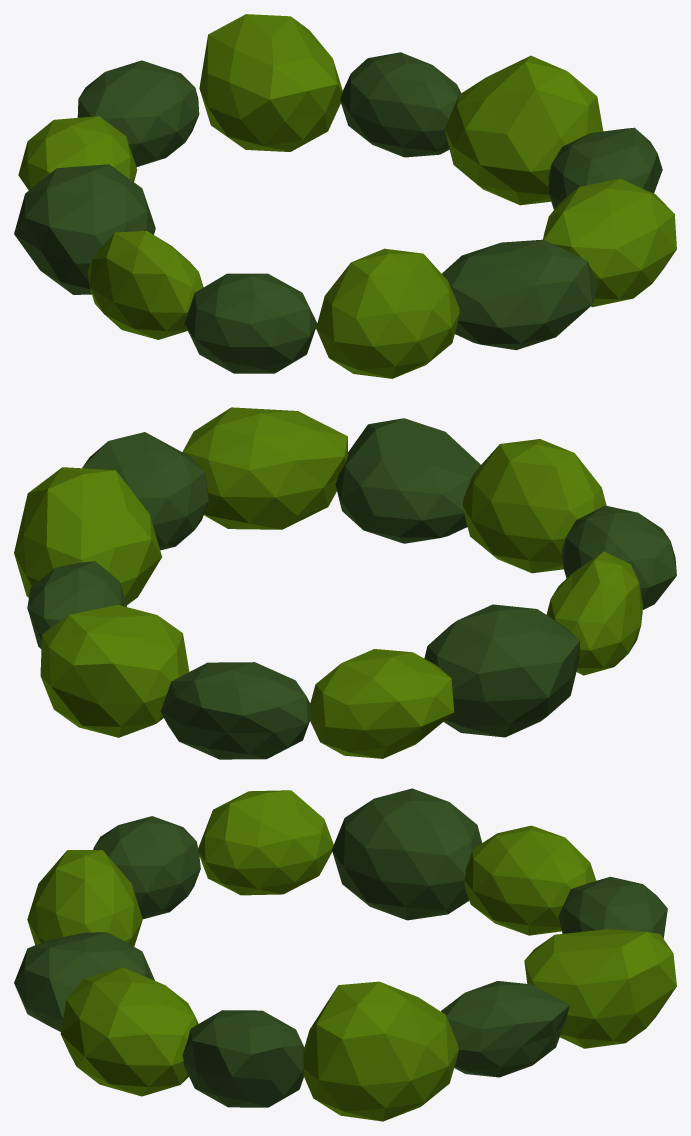
File: Bush_4.glb
3 renders of one model, top to bottom at view 1: azimuth 30°, elevation 25°; view 2: azimuth 150°, elevation 25°; view 3: azimuth 270°, elevation 25°, orthographic. The views are drawn at different scales.
Visible parts, largest first — view 1: Bush.004; view 2: Bush.004; view 3: Bush.004.
Boxes of the visible parts, x1,y1,x2,y2 form: Bush.004: (14, 14, 676, 378); Bush.004: (14, 407, 676, 759); Bush.004: (14, 788, 676, 1121).
Size of the model in its own units: 3.88 by 0.9345 by 4.19.
